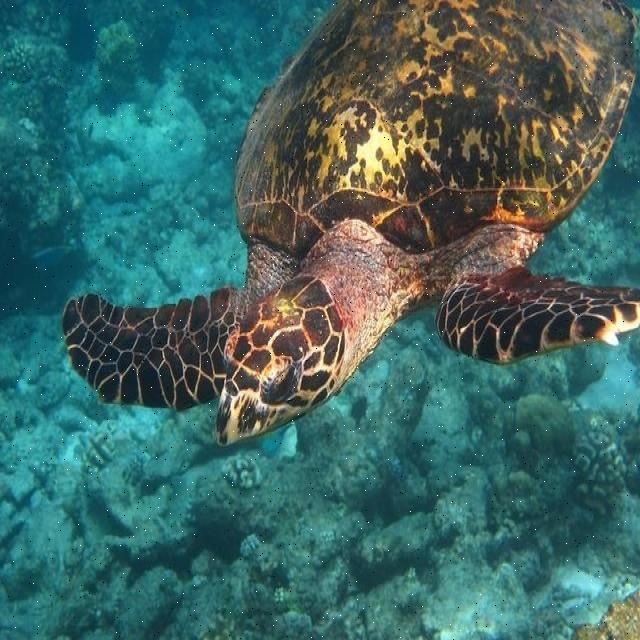fish: (61, 0, 639, 445)
